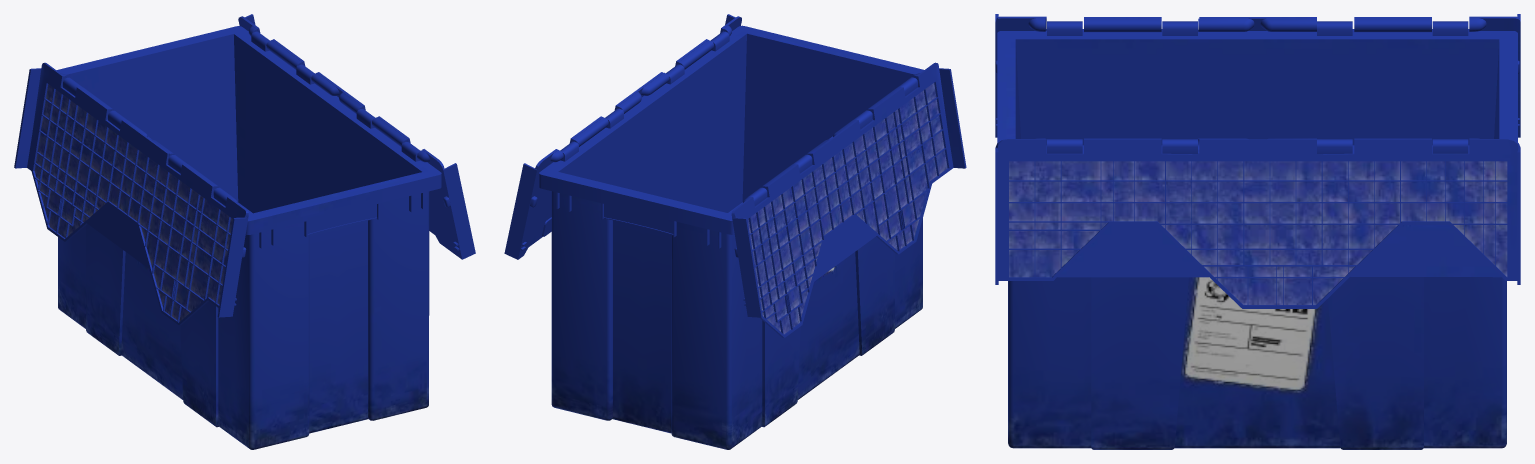
File: industrial_pastic_container.glb
3 renders of one model, left to right at view 1: azimuth 30°, elevation 25°; view 2: azimuth 150°, elevation 25°; view 3: azimuth 270°, elevation 25°, orthographic. The views are drawn at different scales.
Parts seen in each view (by area): view 1: industrial_pastic_container, industrial_pastic_container_lid_b, industrial_pastic_container_lid_a; view 2: industrial_pastic_container, industrial_pastic_container_lid_b, industrial_pastic_container_lid_a; view 3: industrial_pastic_container, industrial_pastic_container_lid_a, industrial_pastic_container_lid_b.
Part boxes in pixels (x1,y1,x2,y2): industrial_pastic_container: (56, 26, 441, 449); industrial_pastic_container_lid_b: (14, 62, 248, 325); industrial_pastic_container_lid_a: (238, 14, 475, 259); industrial_pastic_container: (539, 25, 923, 449); industrial_pastic_container_lid_b: (731, 62, 966, 337); industrial_pastic_container_lid_a: (504, 14, 741, 259); industrial_pastic_container: (997, 21, 1517, 449); industrial_pastic_container_lid_a: (995, 138, 1520, 308); industrial_pastic_container_lid_b: (995, 14, 1520, 137).
Size of the model in its own units: 0.4572 by 0.4188 by 0.6315.
1 material, 1 textured.
